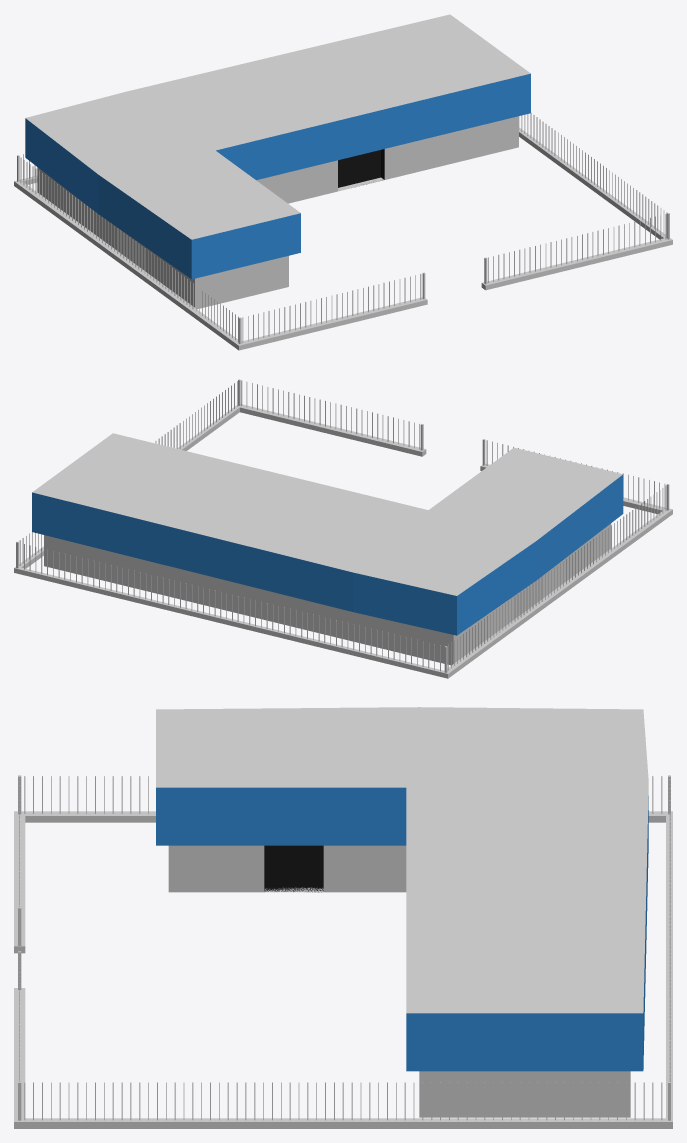
Rendered from loja_18.fbx.
3 renders of one model, top to bottom at view 1: azimuth 30°, elevation 25°; view 2: azimuth 150°, elevation 25°; view 3: azimuth 270°, elevation 25°, orthographic. The views are drawn at different scales.
Parts seen in each view (by area): view 1: Cube; view 2: Cube; view 3: Cube.
Part boxes in pixels (x1,y1,x2,y2): Cube: (14,14,672,350); Cube: (14,379,672,678); Cube: (14,707,672,1128).
Size of the model in its own units: 1760 by 290 by 1572.
